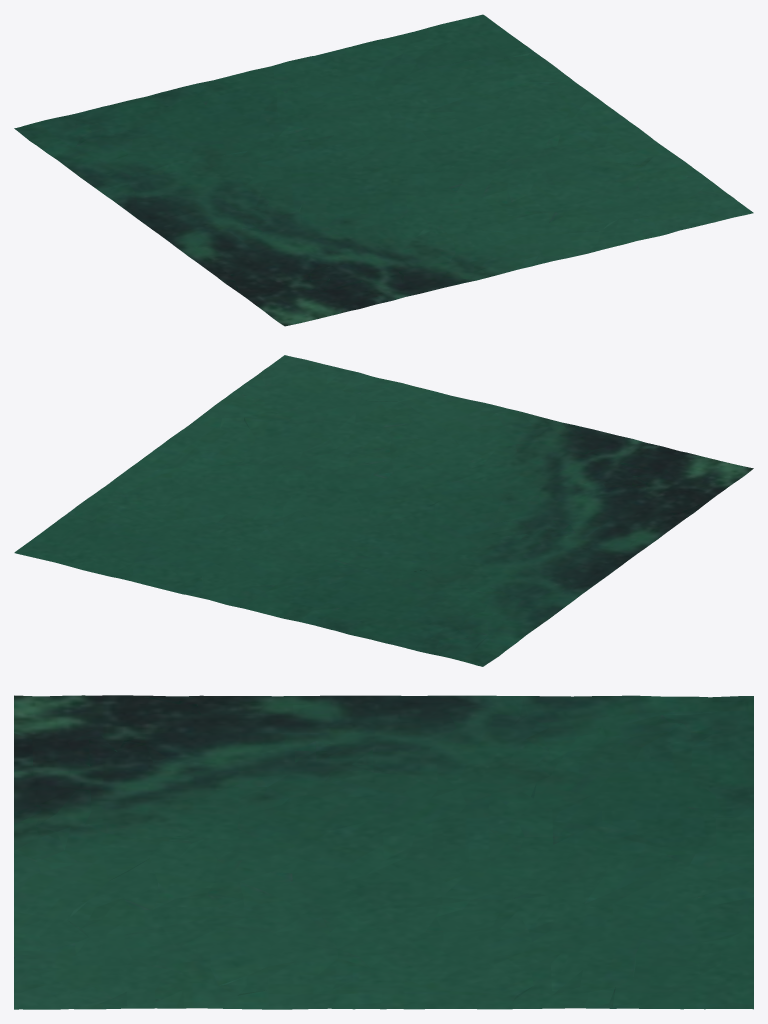
3 views of the same model, one above another, from view 1: azimuth 30°, elevation 25°; view 2: azimuth 150°, elevation 25°; view 3: azimuth 270°, elevation 25° (orthographic). The views are drawn at different scales.
Bounding box in the file's own units: 104 × 0.4653 × 104.
Materials: 3 (3 with a texture image).
